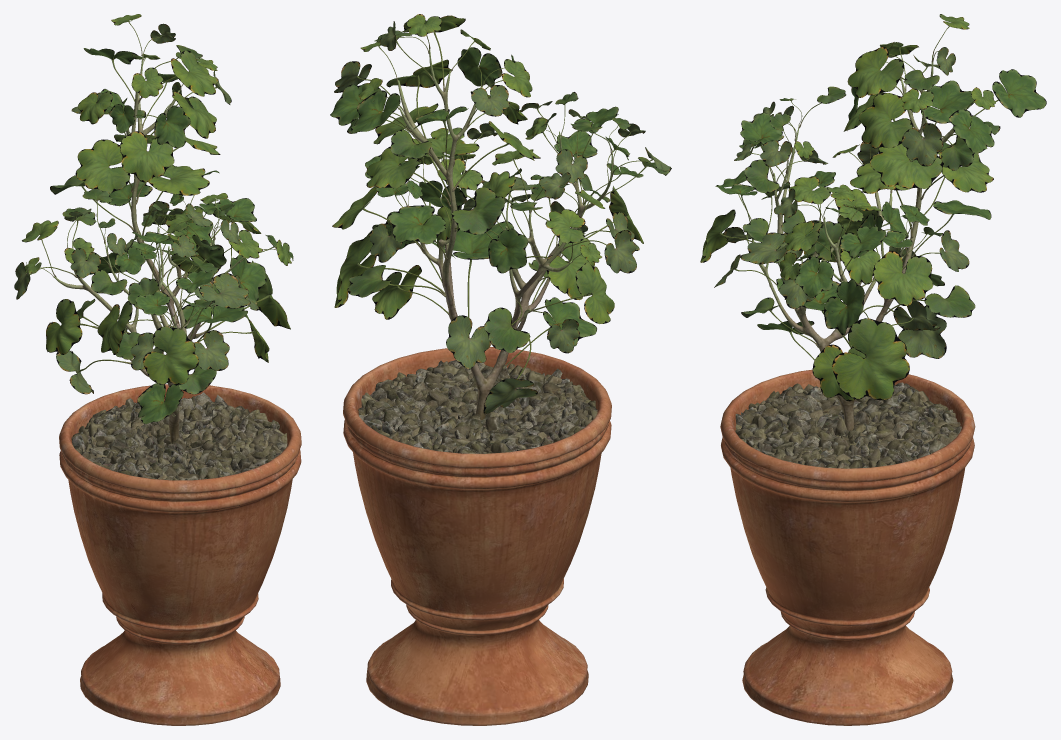
File: potted-plant-01.glb
The picture shows the model from 3 angles, left to right: view 1: azimuth 30°, elevation 25°; view 2: azimuth 150°, elevation 25°; view 3: azimuth 270°, elevation 25°; orthographic projection. The views are drawn at different scales.
Parts seen in each view (by area): view 1: potted_plant_01_stem, potted_plant_01_leaves; view 2: potted_plant_01_stem, potted_plant_01_leaves; view 3: potted_plant_01_stem, potted_plant_01_leaves.
Boxes of the visible parts, box(x1,y1,x2,y2) form: potted_plant_01_stem: box(54, 54, 301, 725); potted_plant_01_leaves: box(14, 14, 293, 423); potted_plant_01_stem: box(343, 49, 612, 725); potted_plant_01_leaves: box(330, 14, 671, 414); potted_plant_01_stem: box(720, 55, 975, 725); potted_plant_01_leaves: box(700, 14, 1046, 401).
Bounding box in the file's own units: 0.5874 × 1.34 × 0.6336.
Materials: 2 (2 with a texture image).
